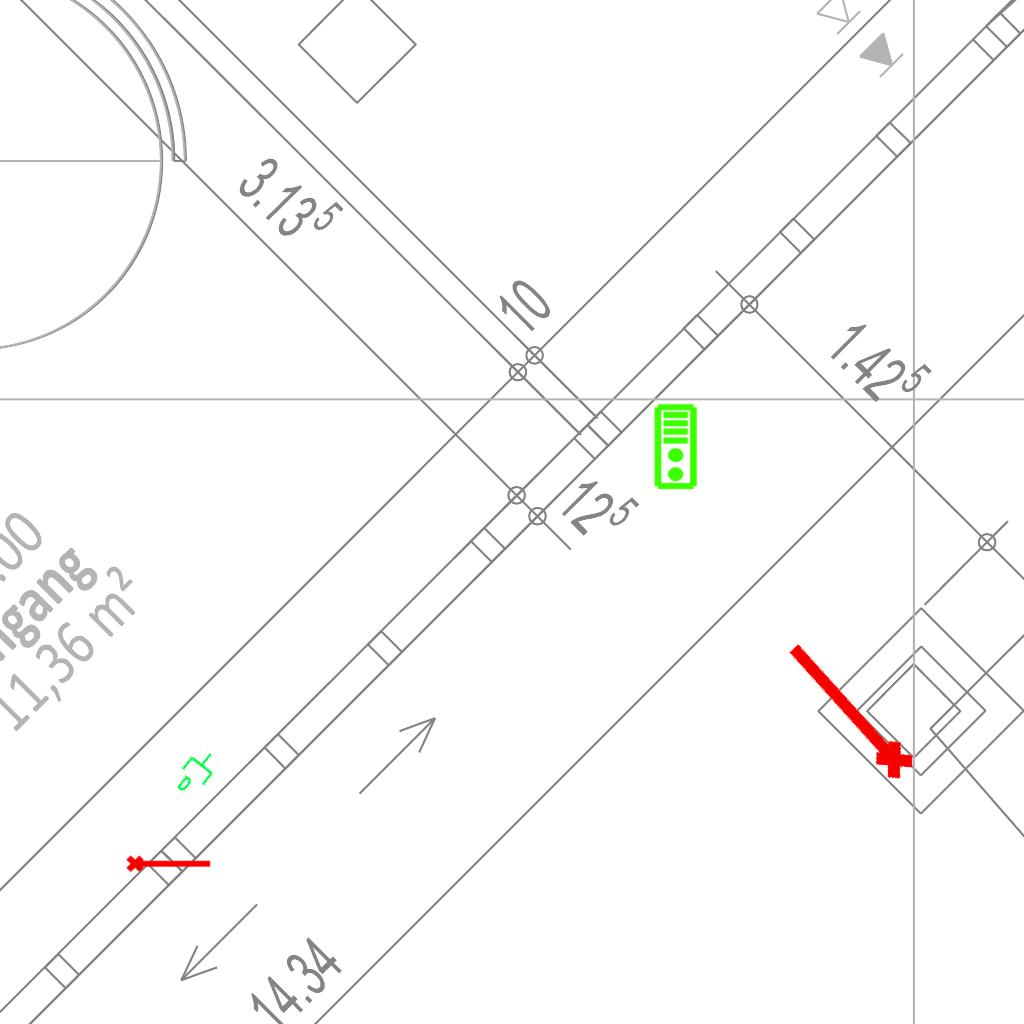ASR_Ansaugoeffnung: (771, 630, 923, 792), (125, 851, 213, 874)
Datenanschluss_einfach: (168, 742, 226, 804)
Gegensprechanlage_mit_Video: (653, 403, 700, 491)
